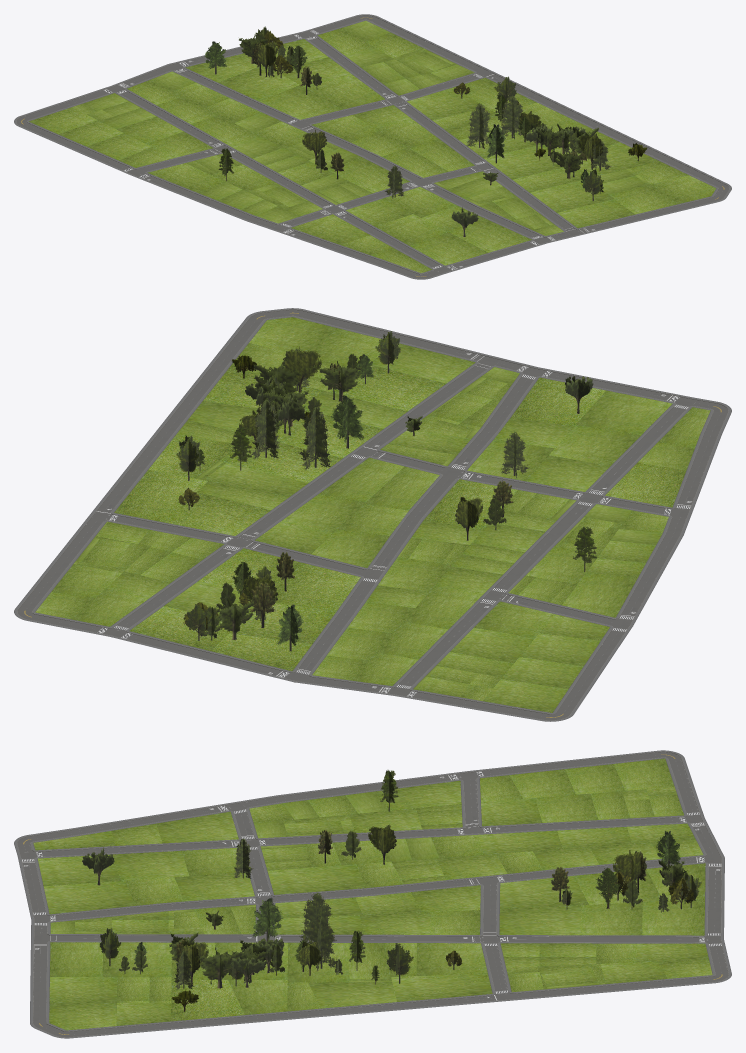
Rendered from block.obj.
3 views of the same model, one above another, from view 1: azimuth 30°, elevation 25°; view 2: azimuth 150°, elevation 25°; view 3: azimuth 270°, elevation 25° (orthographic). The views are drawn at different scales.
Parts seen in each view (by area): view 1: CityEngineMaterial_3, CityEngineMaterial_4, CityEngineMaterial_1, CityEngineMaterial_49, CityEngineMaterial_29, CityEngineMaterial_11, CityEngineMaterial_101, CityEngineMaterial_16, CityEngineMaterial_86, CityEngineMaterial_2, CityEngineMaterial_153, CityEngineMaterial_139 (+33 smaller); view 2: CityEngineMaterial_3, CityEngineMaterial_4, CityEngineMaterial_1, CityEngineMaterial_49, CityEngineMaterial_29, CityEngineMaterial_11, CityEngineMaterial_101, CityEngineMaterial_86, CityEngineMaterial_153, CityEngineMaterial_139, CityEngineMaterial_2, CityEngineMaterial_16 (+31 smaller); view 3: CityEngineMaterial_3, CityEngineMaterial_4, CityEngineMaterial_1, CityEngineMaterial_49, CityEngineMaterial_29, CityEngineMaterial_11, CityEngineMaterial_101, CityEngineMaterial_86, CityEngineMaterial_16, CityEngineMaterial_2, CityEngineMaterial_139, CityEngineMaterial_66 (+33 smaller).
Boxes of the visible parts, x1=… form: CityEngineMaterial_3: x1=14, y1=14, x2=731, y2=279; CityEngineMaterial_4: x1=24, y1=17, x2=728, y2=277; CityEngineMaterial_1: x1=16, y1=15, x2=729, y2=278; CityEngineMaterial_49: x1=29, y1=85, x2=456, y2=217; CityEngineMaterial_29: x1=150, y1=20, x2=563, y2=179; CityEngineMaterial_11: x1=72, y1=59, x2=549, y2=229; CityEngineMaterial_101: x1=409, y1=142, x2=659, y2=265; CityEngineMaterial_16: x1=119, y1=48, x2=688, y2=255; CityEngineMaterial_86: x1=100, y1=77, x2=536, y2=215; CityEngineMaterial_2: x1=16, y1=15, x2=729, y2=278; CityEngineMaterial_153: x1=185, y1=53, x2=634, y2=244; CityEngineMaterial_139: x1=117, y1=87, x2=485, y2=157; CityEngineMaterial_3: x1=14, y1=308, x2=731, y2=721; CityEngineMaterial_4: x1=19, y1=310, x2=720, y2=717; CityEngineMaterial_1: x1=17, y1=310, x2=728, y2=720; CityEngineMaterial_49: x1=255, y1=439, x2=583, y2=712; CityEngineMaterial_29: x1=35, y1=409, x2=414, y2=680; CityEngineMaterial_11: x1=125, y1=378, x2=622, y2=700; CityEngineMaterial_101: x1=203, y1=365, x2=672, y2=448; CityEngineMaterial_86: x1=114, y1=430, x2=662, y2=677; CityEngineMaterial_153: x1=211, y1=343, x2=685, y2=671; CityEngineMaterial_139: x1=164, y1=492, x2=554, y2=663; CityEngineMaterial_2: x1=17, y1=309, x2=728, y2=720; CityEngineMaterial_16: x1=106, y1=343, x2=694, y2=640; CityEngineMaterial_3: x1=14, y1=750, x2=731, y2=1038; CityEngineMaterial_4: x1=17, y1=755, x2=721, y2=1036; CityEngineMaterial_1: x1=17, y1=752, x2=728, y2=1037; CityEngineMaterial_49: x1=174, y1=758, x2=674, y2=934; CityEngineMaterial_29: x1=215, y1=839, x2=712, y2=984; CityEngineMaterial_11: x1=75, y1=787, x2=683, y2=980; CityEngineMaterial_101: x1=38, y1=854, x2=244, y2=1021; CityEngineMaterial_86: x1=194, y1=791, x2=629, y2=1001; CityEngineMaterial_16: x1=111, y1=775, x2=636, y2=1025; CityEngineMaterial_2: x1=17, y1=751, x2=728, y2=1037; CityEngineMaterial_139: x1=416, y1=793, x2=598, y2=975; CityEngineMaterial_66: x1=43, y1=864, x2=365, y2=914.
Size of the model in its own units: 420 by 39.39 by 442.
Materials: 24 (24 with a texture image).
